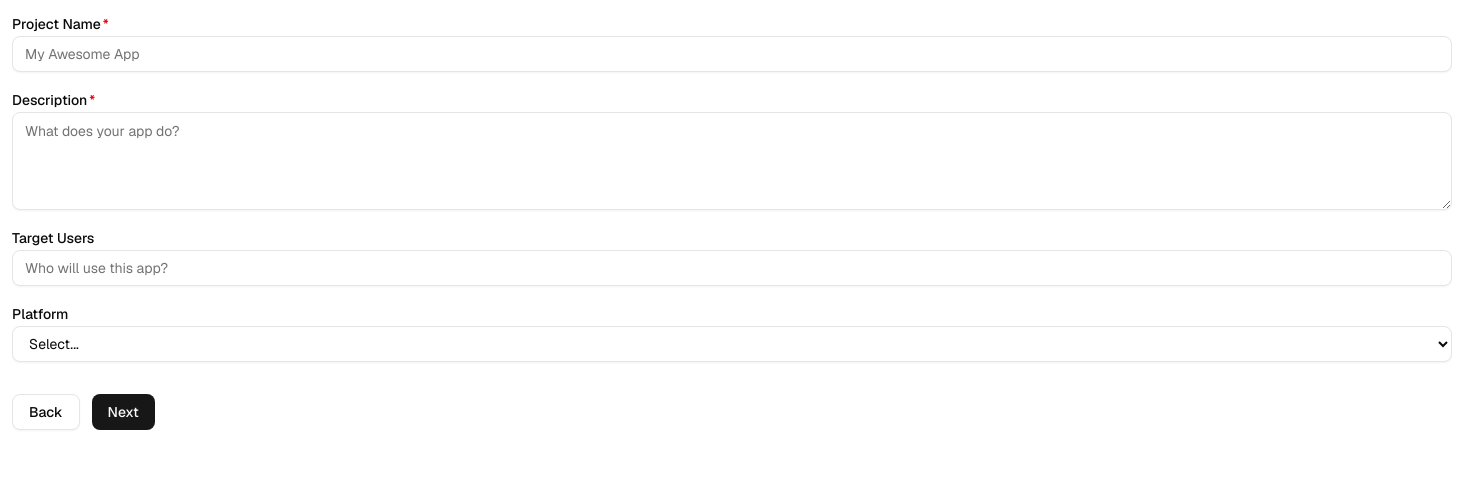
Test: TemplateForm › clears validation errors when field is filled
The image size is (1464, 499).
Click the button "Next" at (123, 412), box [92, 394, 155, 430]
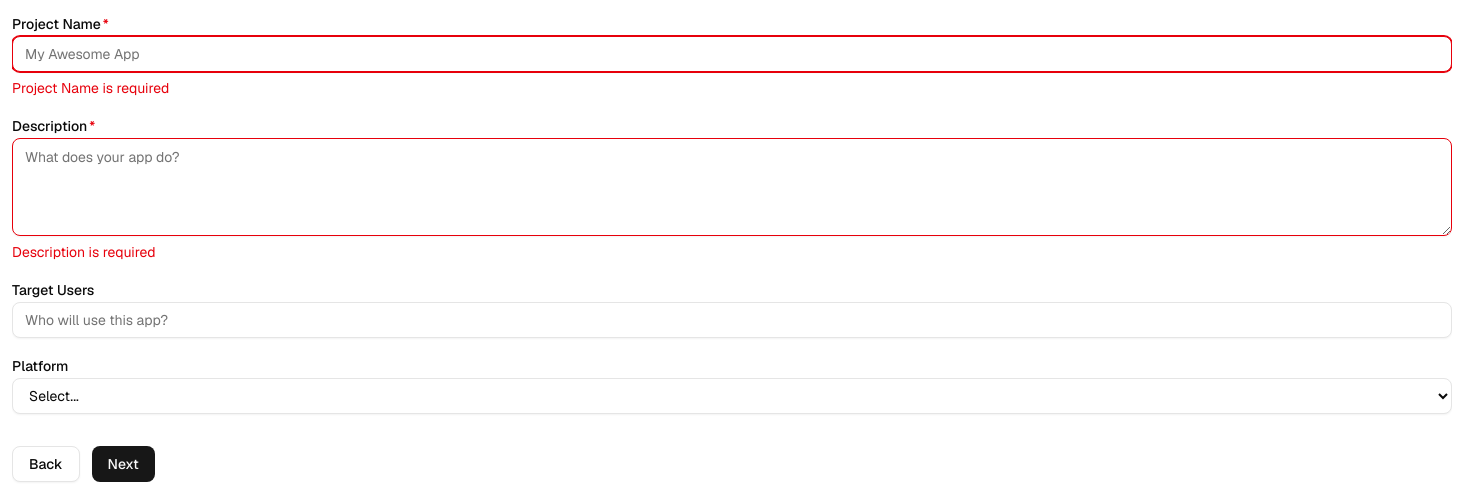
Check: the text "Project Name is required" is shown, box [12, 79, 169, 97]
Type "Test App" into the field labelled "Project Name*" at (732, 54), box [12, 36, 1452, 72]
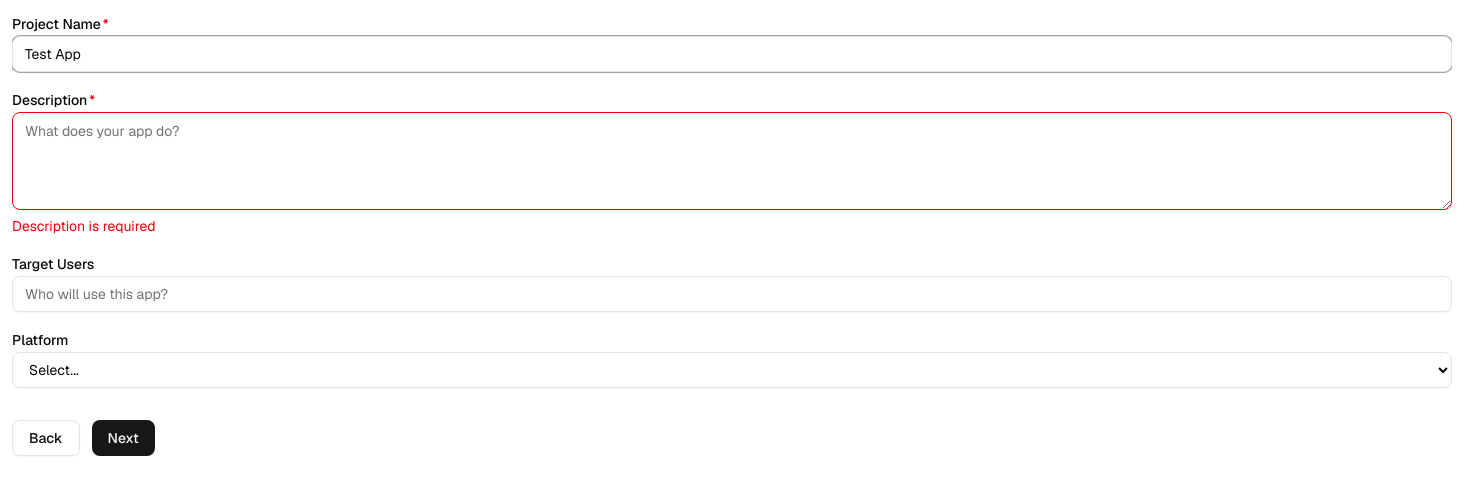
Type "A test app" into the text box with placeholder "What does your app do?" at (732, 161), box [12, 112, 1452, 210]
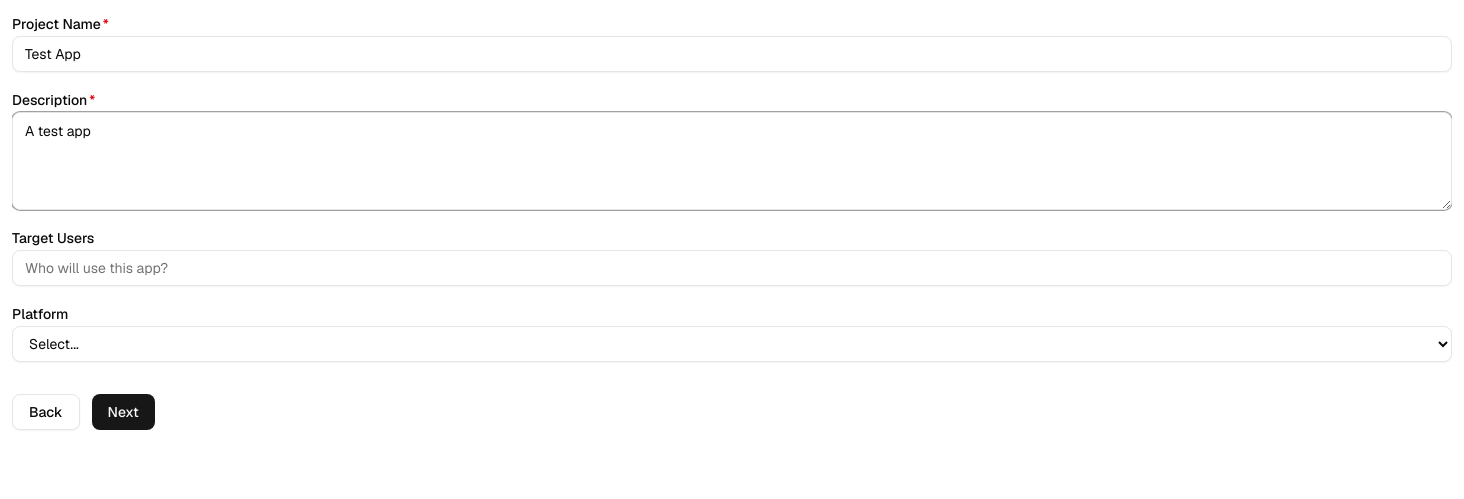
Check: the text "required" is not shown
